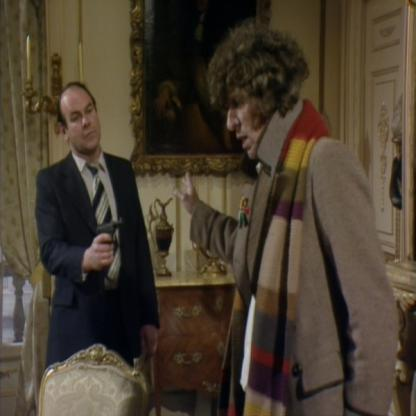Gun: (92, 214, 128, 256)
